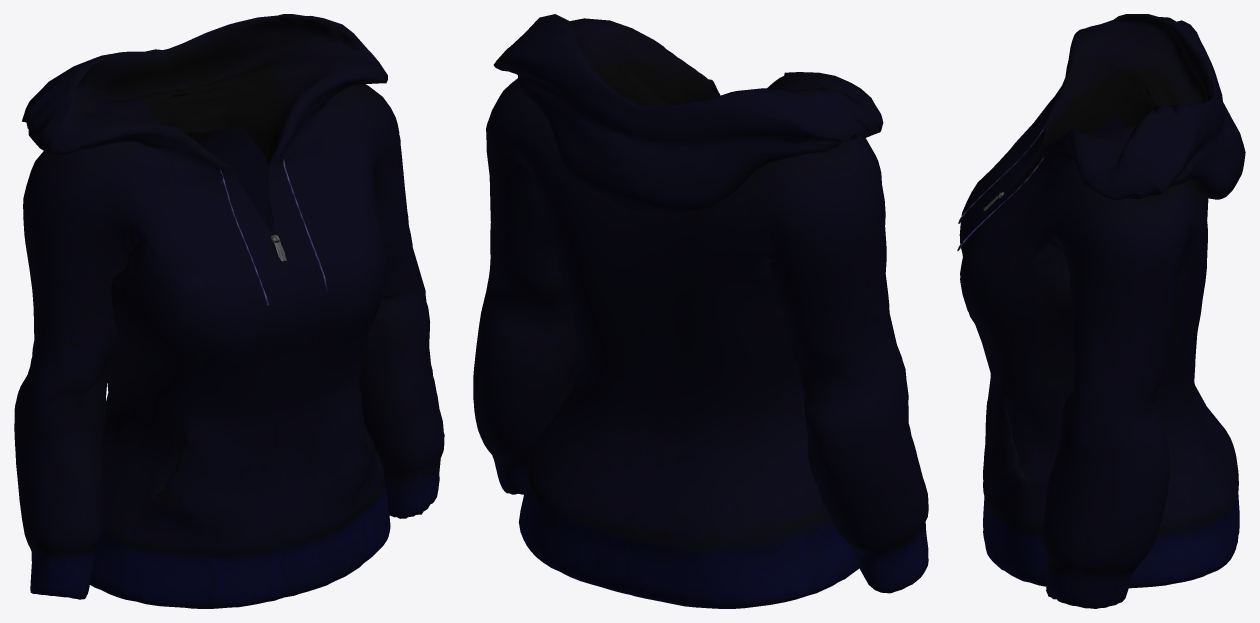
File: elvs-hooded-sweat-jacket1.glb
The picture shows the model from 3 angles, left to right: view 1: azimuth 30°, elevation 25°; view 2: azimuth 150°, elevation 25°; view 3: azimuth 270°, elevation 25°; orthographic projection. The views are drawn at different scales.
Visible parts, largest first — view 1: Human.elvs_hooded_sweat_jacket1; view 2: Human.elvs_hooded_sweat_jacket1; view 3: Human.elvs_hooded_sweat_jacket1.
Part boxes in pixels (left/top/right/bottom): Human.elvs_hooded_sweat_jacket1: left=14, top=14, right=444, bottom=608; Human.elvs_hooded_sweat_jacket1: left=473, top=14, right=928, bottom=608; Human.elvs_hooded_sweat_jacket1: left=957, top=14, right=1245, bottom=608.
Size of the model in its own units: 0.5396 by 0.6221 by 0.3435.
Materials: 1 (1 with a texture image).
